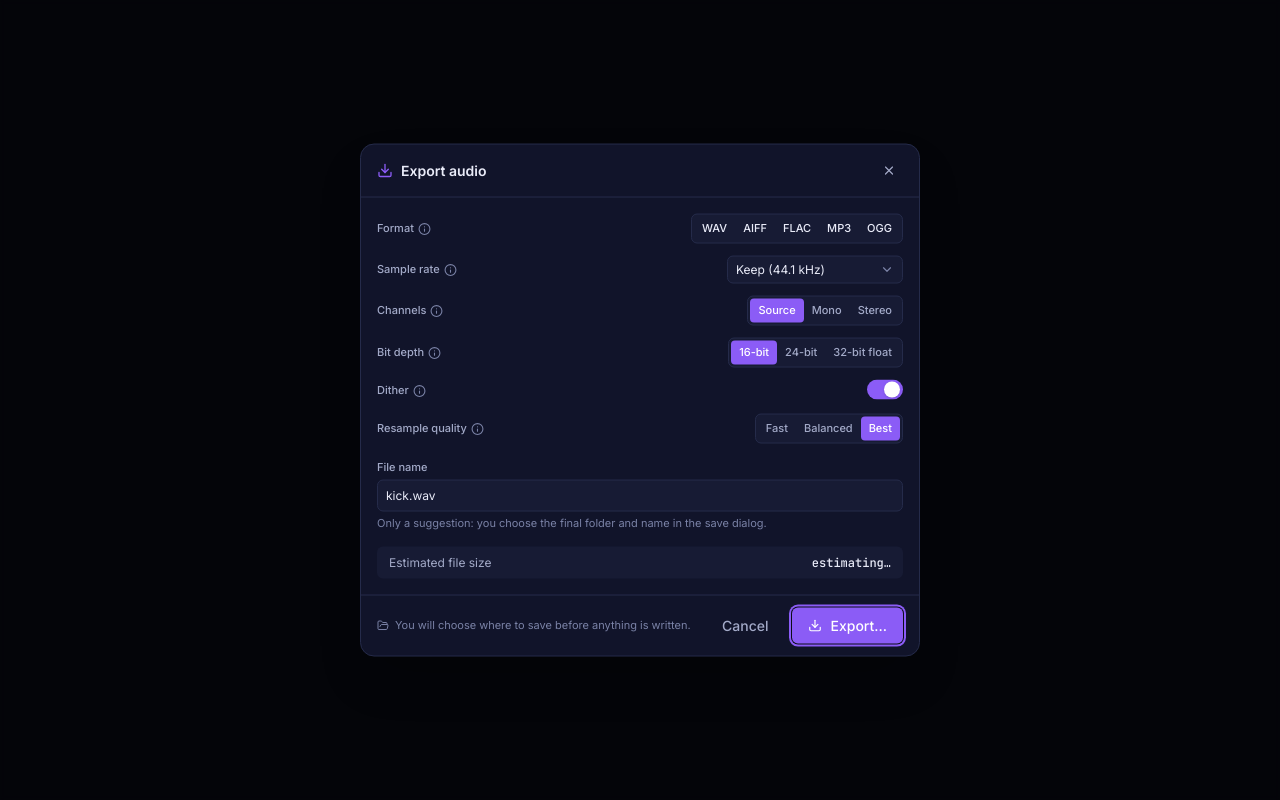
Test: ExportDialog › cancel in the save dialog -> no success state, nothing reported as saved
Click the button "Export…" at (848, 626), box [792,608,903,644]
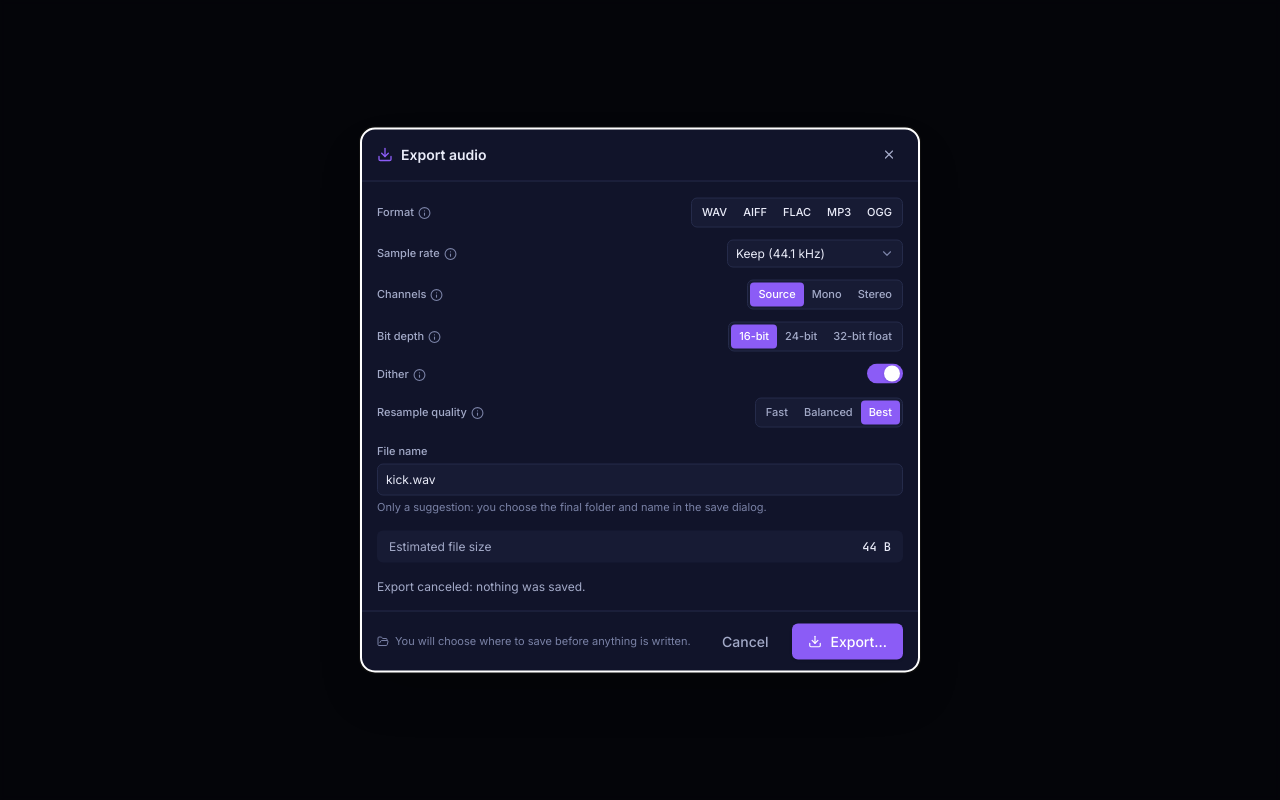
Expected: the text "Export canceled: nothing was saved." is shown, [377,578,586,594]
